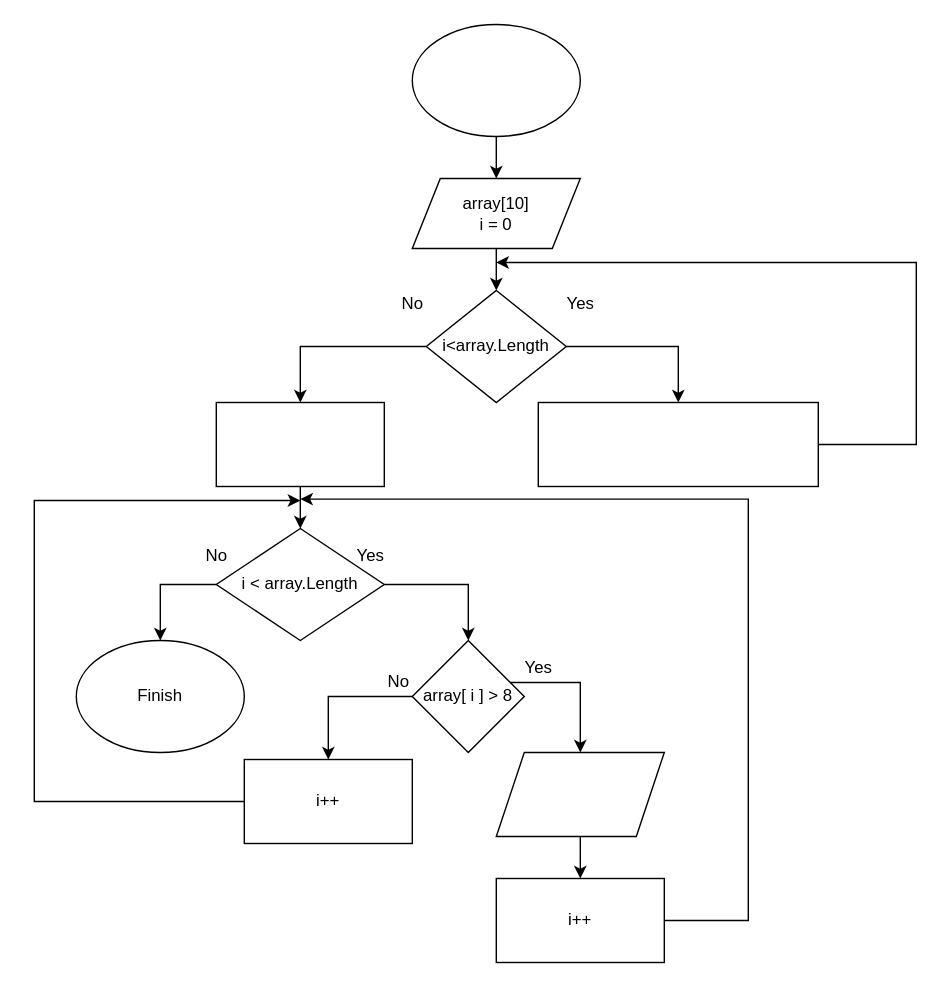
Some shapes in this 952 by 987 pixel diagram are drawn without their labels. Each missing label, with the centre of its shape:
"array[ i ] = random().Next(-50,50) i++" goes at [677,443].
"i = 0" goes at [299,443].
"print array[ i ]" goes at [579,793].
"Start" goes at [495,79].
